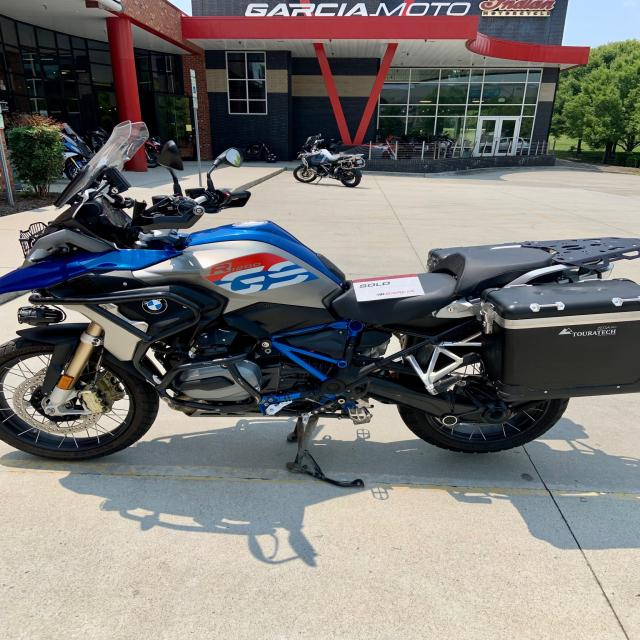Motorcycle: (0, 123, 640, 487), (293, 134, 366, 186)
